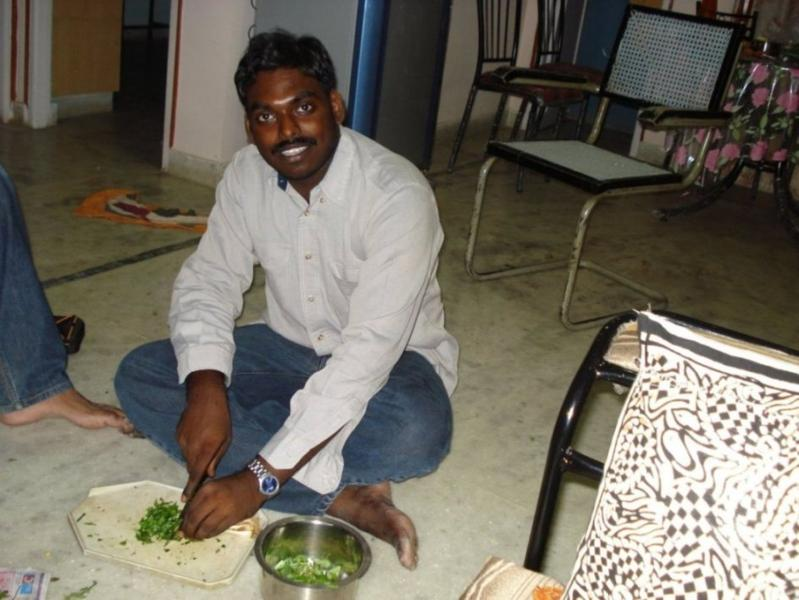person: (113, 30, 464, 573)
